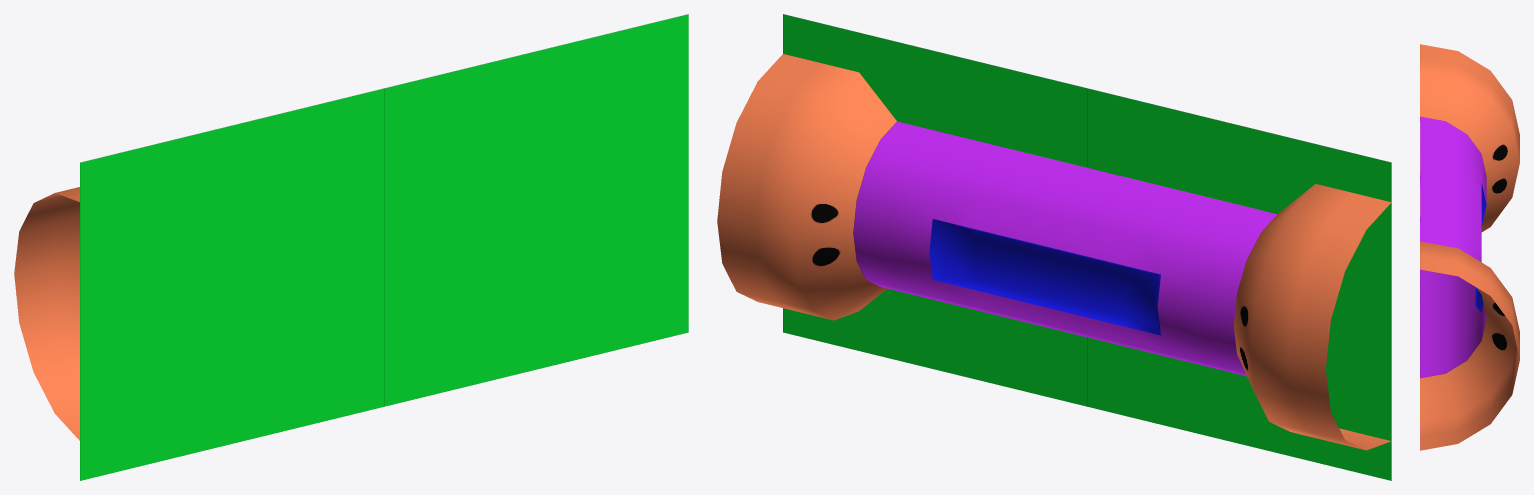
Rendered from 1x2_Strt.fbx.
3 renders of one model, left to right at view 1: azimuth 30°, elevation 25°; view 2: azimuth 150°, elevation 25°; view 3: azimuth 270°, elevation 25°, orthographic. The views are drawn at different scales.
Visible parts, largest first — view 1: Panel_1x2_Straight; view 2: Panel_1x2_Straight; view 3: Panel_1x2_Straight.
Part boxes in pixels (x1=…): Panel_1x2_Straight: x1=14, y1=14, x2=688, y2=480; Panel_1x2_Straight: x1=717, y1=14, x2=1391, y2=480; Panel_1x2_Straight: x1=1420, y1=44, x2=1519, y2=450.
Size of the model in its own units: 200 by 100 by 37.5.
